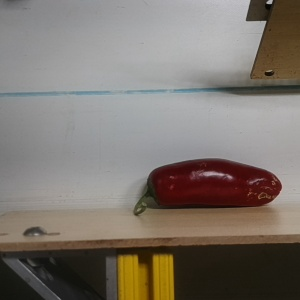Cut Point: (137, 163, 169, 208)
